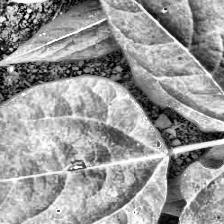ALS: (0, 75, 174, 224)
